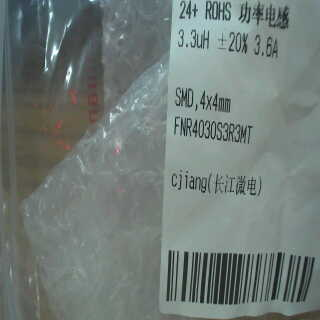3.3uH: (176, 24, 215, 55)
